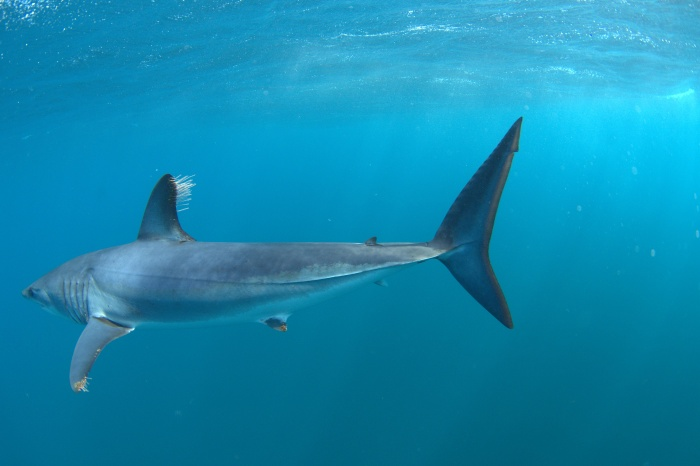Mako: (13, 111, 544, 398)
